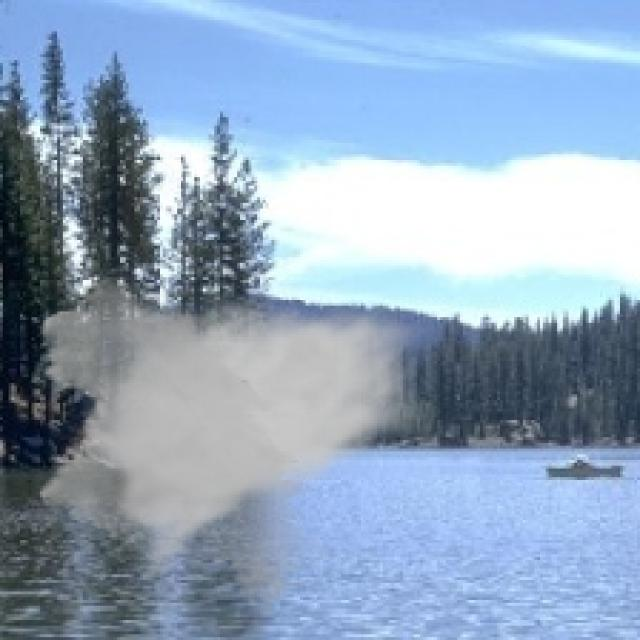smoke: (29, 266, 434, 614)
